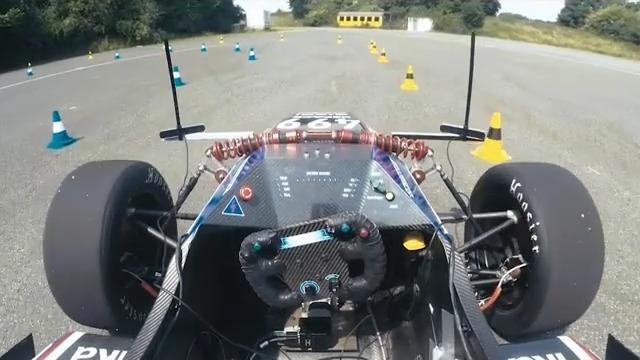blue_cone: (40, 102, 87, 158), (158, 58, 193, 91), (227, 38, 265, 67)
yellow_cone: (469, 99, 522, 164), (354, 33, 396, 72), (402, 66, 425, 94)
